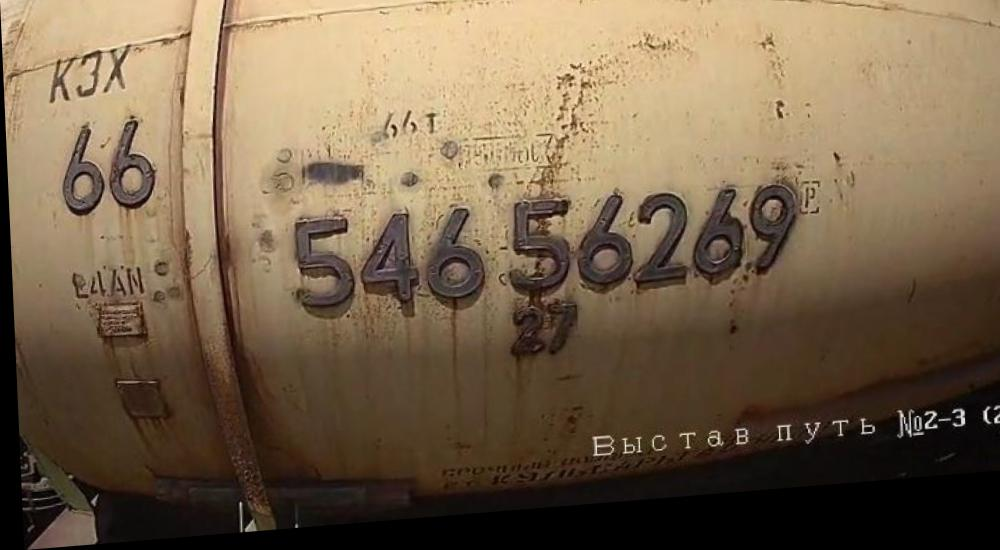Wagon-number: (287, 186, 805, 328)
